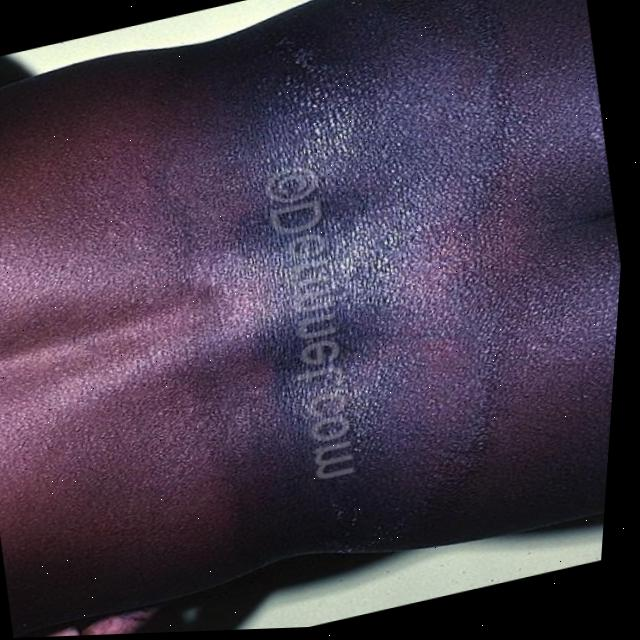Eczema: (133, 0, 639, 616)
